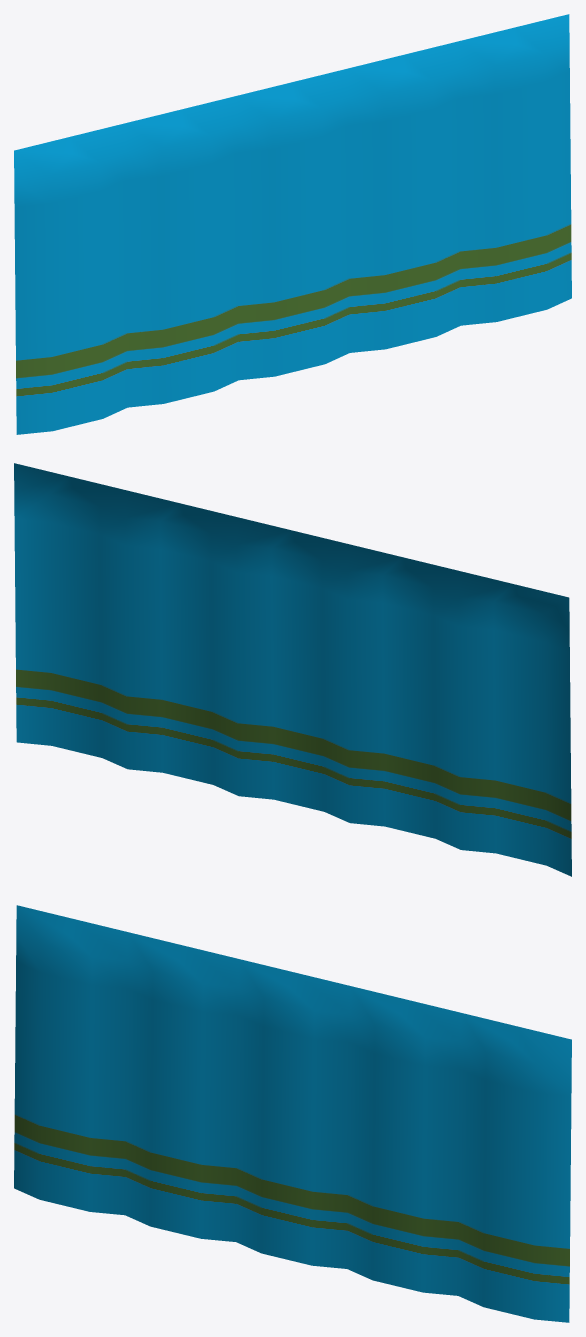
Rendered from Cortina.obj.
3 renders of one model, top to bottom at view 1: azimuth 30°, elevation 25°; view 2: azimuth 150°, elevation 25°; view 3: azimuth 330°, elevation 25°, orthographic.
Visible parts, largest first — view 1: polySurface8895 polySurface140; view 2: polySurface8895 polySurface140; view 3: polySurface8895 polySurface140.
Boxes of the visible parts, left/top/right/bottom form: polySurface8895 polySurface140: left=14, top=14, right=571, bottom=434; polySurface8895 polySurface140: left=14, top=463, right=571, bottom=876; polySurface8895 polySurface140: left=14, top=905, right=571, bottom=1322.
Size of the model in its own units: 2.56 by 1.24 by 0.0712.
Materials: 1 (1 with a texture image).
